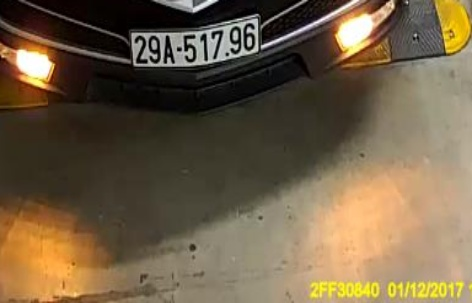plate: (125, 19, 262, 70)
